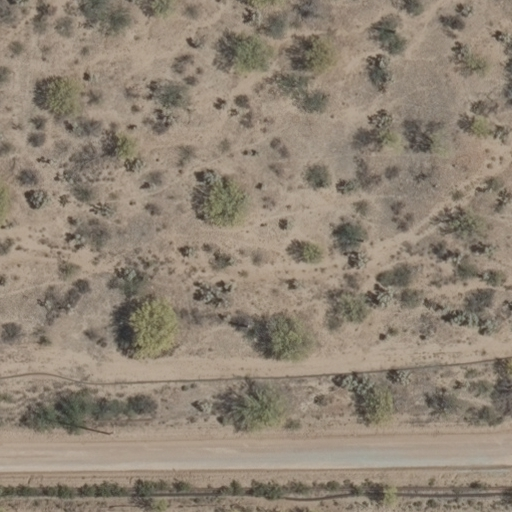DT: (99, 415, 122, 441)
